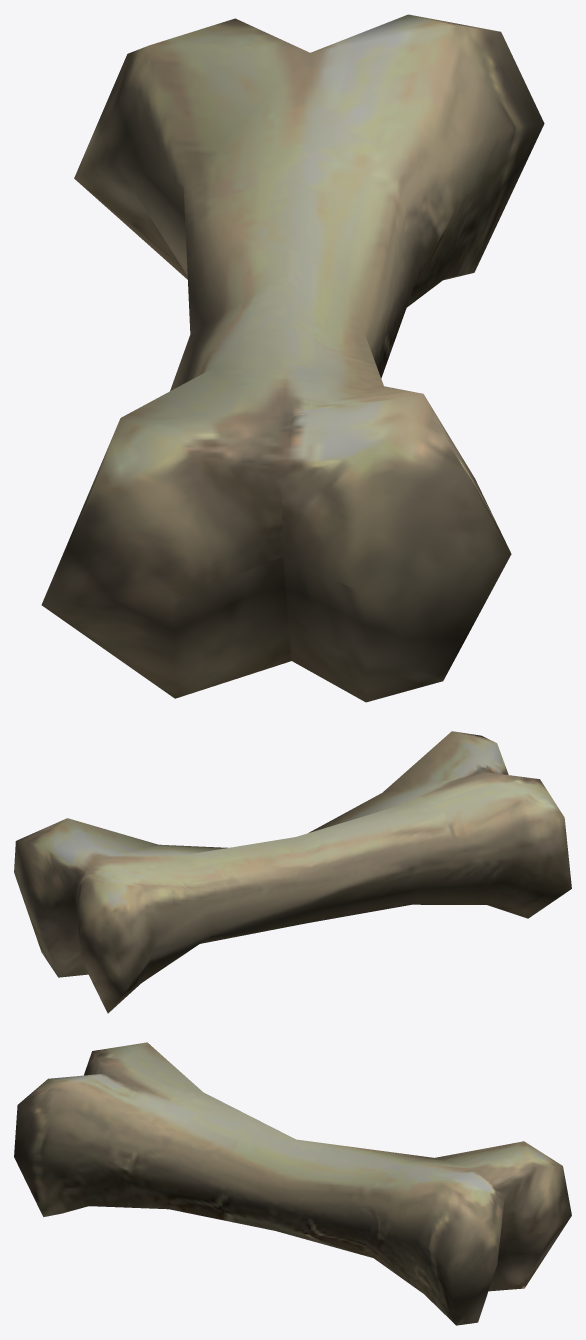
The model's file is Main_Jifengzhigu_gutou03_fbx.fbx.
3 views of the same model, one above another, from view 1: azimuth 30°, elevation 25°; view 2: azimuth 150°, elevation 25°; view 3: azimuth 270°, elevation 25° (orthographic). The views are drawn at different scales.
Visible parts, largest first — view 1: Main_Jifengzhigu_gutou03_fbx; view 2: Main_Jifengzhigu_gutou03_fbx; view 3: Main_Jifengzhigu_gutou03_fbx.
Part boxes in pixels (x1,y1,x2,y2): Main_Jifengzhigu_gutou03_fbx: (41, 14, 544, 702); Main_Jifengzhigu_gutou03_fbx: (14, 731, 571, 1013); Main_Jifengzhigu_gutou03_fbx: (14, 1042, 571, 1325).
Bounding box in the file's own units: 86.2 × 29.63 × 102.
